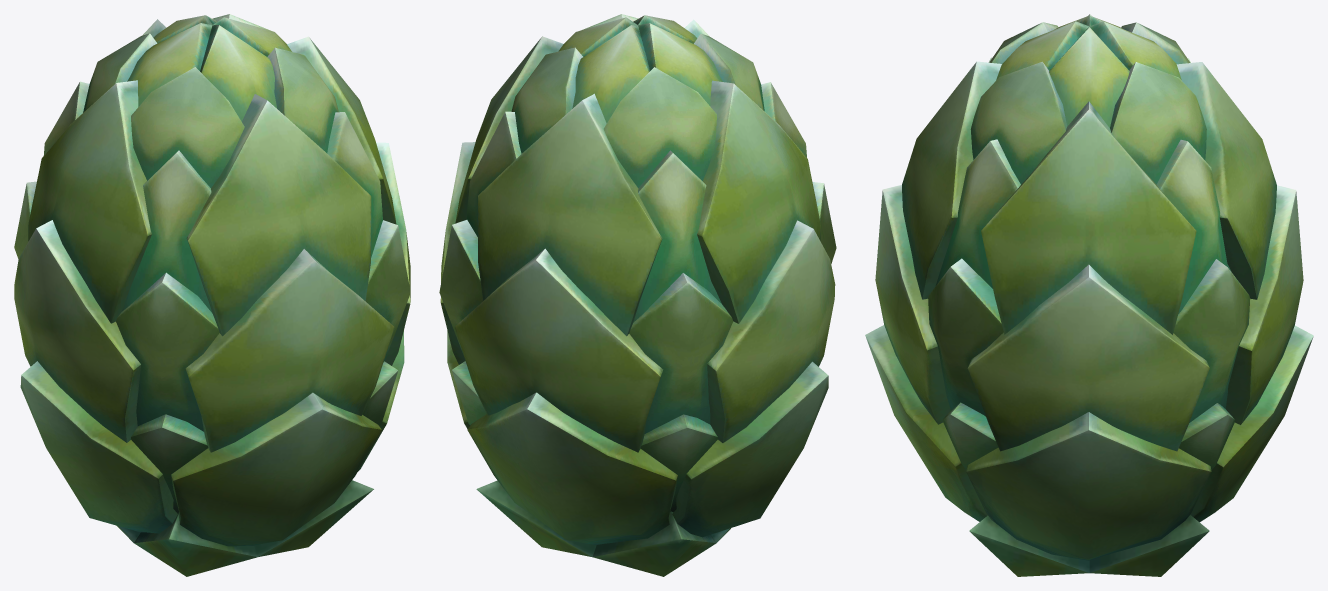
File: p_egg_2 #17919.fbx
3 renders of one model, left to right at view 1: azimuth 30°, elevation 25°; view 2: azimuth 150°, elevation 25°; view 3: azimuth 270°, elevation 25°, orthographic.
Visible parts, largest first — view 1: egg; view 2: egg; view 3: egg.
Part boxes in pixels (x1=…): egg: x1=14, y1=14, x2=410, y2=576; egg: x1=439, y1=14, x2=836, y2=576; egg: x1=865, y1=14, x2=1313, y2=576.
Bounding box in the file's own units: 0.000136 × 0.000184 × 0.000136.
